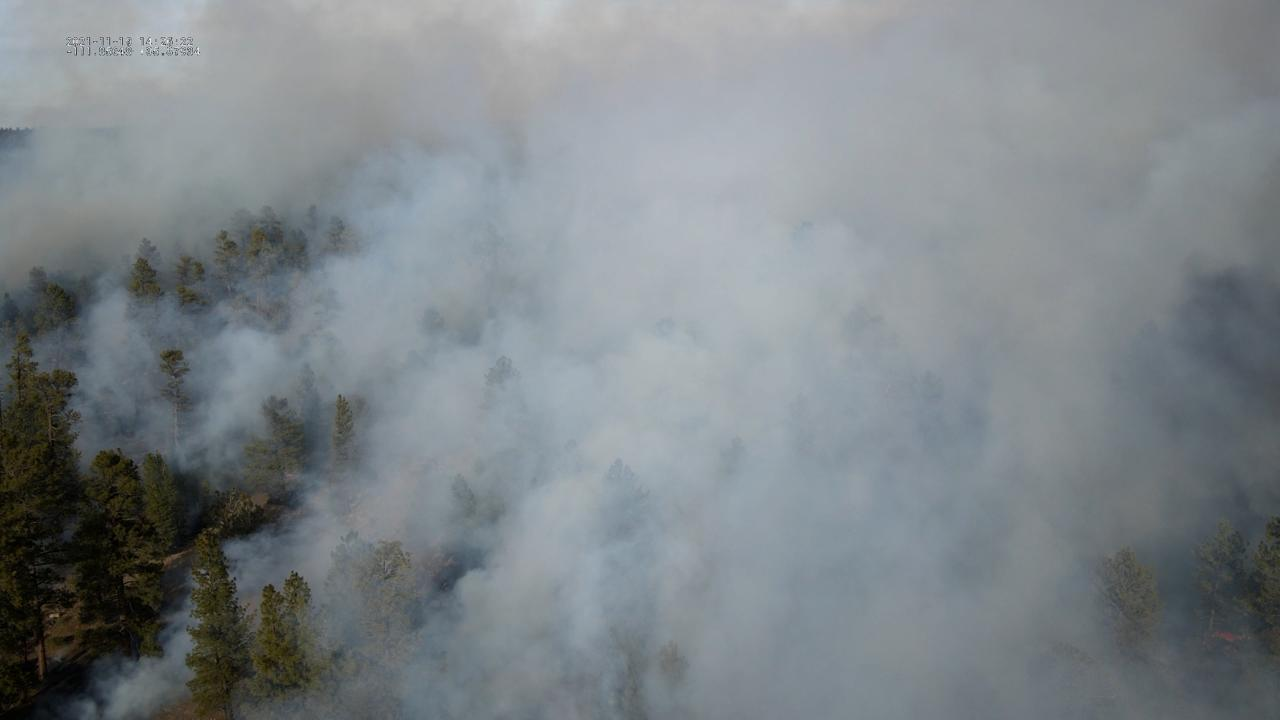fire: (1207, 630, 1248, 644)
smoke: (0, 0, 1280, 720)
